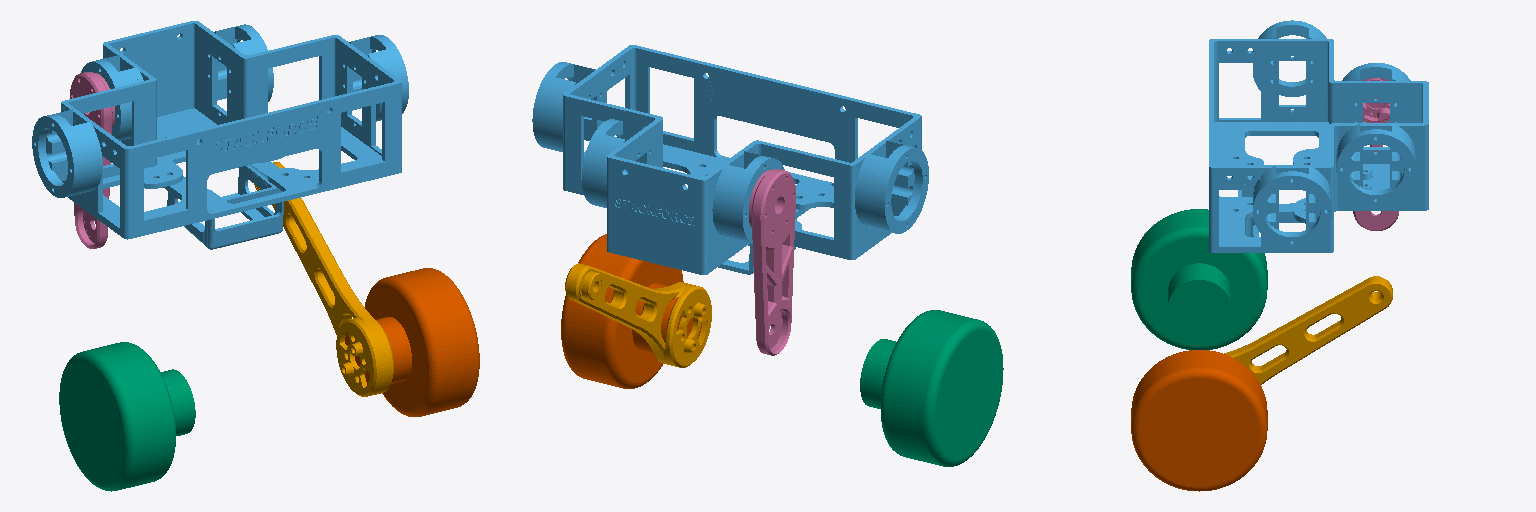
robot.urdf — yaw_bot:
<?xml version='1.0' encoding='utf-8'?>
<robot name="yaw_bot">

    <link name="L_leg2">
        <inertial>
            <origin xyz="0.006905062628628249 -0.009854468753303702 -0.055887393037688006" rpy="0 0 0" />
            <mass value="0.024771540135466605" />
            <inertia ixx="3.6559708017023435e-05" iyy="3.4227597074614803e-05" izz="2.756736408119141e-06"
                     ixy="-1.446695481007213e-07" iyz="-5.72849348071433e-06" ixz="-8.204580116337257e-07" />
        </inertial>
        <visual name="L_leg2_visual">
            <origin xyz="0.004599996208398833 -4.294191229270439e-09 -4.309250902778672e-09"
                    rpy="-1.5707963267948966 1.3962634015954634 -1.5707963267948966" />
            <geometry>
                <mesh filename="meshes/L_leg2.stl" scale="0.001 0.001 0.001" />
            </geometry>
        </visual>
        <collision name="L_leg2_collision">
            <origin xyz="0.004599996208398833 -4.294191229270439e-09 -4.309250902778672e-09"
                    rpy="-1.5707963267948966 1.3962634015954634 -1.5707963267948966" />
            <geometry>
                <mesh filename="meshes/L_leg2.stl" scale="0.001 0.001 0.001" />
            </geometry>
        </collision>
    </link>

    <link name="Body">
        <inertial>
            <origin xyz="-1.5122274954099258e-05 -0.008522917911864053 -0.0033113715021494726" rpy="0 0 0" />
            <mass value="0.55" />
            <inertia ixx="0.000707039674353944" iyy="0.0015058415792489023" izz="0.0018990194155595217"
                     ixy="-4.003016326460196e-08" iyz="-3.688655883629387e-05" ixz="4.7553160463655175e-08" />
        </inertial>
        <visual name="Body_visual">
            <origin xyz="0 0 0" rpy="0 0 0" />
            <geometry>
                <mesh filename="meshes/Body.stl" scale="0.001 0.001 0.001" />
            </geometry>
        </visual>
        <collision name="Body_collision">
            <origin xyz="0 0 0" rpy="0 0 0" />
            <geometry>
                <mesh filename="meshes/Body.stl" scale="0.001 0.001 0.001" />
            </geometry>
        </collision>
    </link>

    <link name="R_wheel">
        <inertial>
            <origin xyz="-0.029143190769008082 1.336656227368671e-09 2.4209189852797408e-09" rpy="0 0 0" />
            <mass value="0.09579883926422769" />
            <inertia ixx="4.4821067523390657e-05" iyy="3.332778072440257e-05" izz="3.332778072440204e-05"
                     ixy="-5.652164680205037e-13" iyz="-3.841999940752855e-20" ixz="-1.464693526319681e-12" />
        </inertial>
        <visual name="R_wheel_visual">
            <origin xyz="-0.04560010777365896 2.2525172260756677e-09 4.794267649543826e-09"
                    rpy="-3.1415925105579046 0.17453292519943325 1.570796297275515" />
            <geometry>
                <mesh filename="meshes/R_wheel.stl" scale="0.001 0.001 0.001" />
            </geometry>
        </visual>
        <collision name="R_wheel_collision">
            <origin xyz="-0.029143190769008082 0 0"
                    rpy="0 1.5707963267948966 0" />
            <geometry>
                <cylinder radius="0.0325" length="0.028" />
            </geometry>
        </collision>
    </link>

    <link name="L_leg1">
        <inertial>
            <origin xyz="-0.01817664032785978 4.2499057784084475e-09 0.0035950394435368825" rpy="0 0 0" />
            <mass value="0.019929620600305648" />
            <inertia ixx="1.2938063663276781e-06" iyy="1.0239082030478714e-05" izz="1.1274459117837446e-05"
                     ixy="-2.1331638291929656e-12" iyz="2.4812564100700546e-14" ixz="2.1438378095246175e-07" />
        </inertial>
        <visual name="L_leg1_visual">
            <origin xyz="3.668816609403436e-09 4.485799178777228e-09 0.007510006387212767"
                    rpy="-3.141592653589793 0 3.141592653589793" />
            <geometry>
                <mesh filename="meshes/L_leg1.stl" scale="0.001 0.001 0.001" />
            </geometry>
        </visual>
        <collision name="L_leg1_collision">
            <origin xyz="3.668816609403436e-09 4.485799178777228e-09 0.007510006387212767"
                    rpy="-3.141592653589793 0 3.141592653589793" />
            <geometry>
                <mesh filename="meshes/L_leg1.stl" scale="0.001 0.001 0.001" />
            </geometry>
        </collision>
    </link>

    <link name="R_leg2">
        <inertial>
            <origin xyz="-0.006905071179043256 -0.00985444686487682 -0.05588739624681786" rpy="0 0 0" />
            <mass value="0.024771540135466612" />
            <inertia ixx="3.6559708016949207e-05" iyy="3.4228410339707002e-05" izz="2.7559231429525398e-06"
                     ixy="1.4466825992845216e-07" iyz="-5.726259053072789e-06" ixz="8.204582387729414e-07" />
        </inertial>
        <visual name="R_leg2_visual">
            <origin xyz="-0.004600004758813849 -1.6959085025192167e-09 -4.1170097642151406e-09"
                    rpy="1.5707963267948966 1.3962634015954634 -1.5707963267948966" />
            <geometry>
                <mesh filename="meshes/R_leg2.stl" scale="0.001 0.001 0.001" />
            </geometry>
        </visual>
        <collision name="R_leg2_collision">
            <origin xyz="-0.004600004758813849 -1.6959085025192167e-09 -4.1170097642151406e-09"
                    rpy="1.5707963267948966 1.3962634015954634 -1.5707963267948966" />
            <geometry>
                <mesh filename="meshes/R_leg2.stl" scale="0.001 0.001 0.001" />
            </geometry>
        </collision>
    </link>

    <link name="L_wheel">
        <inertial>
            <origin xyz="0.029143182218593147 4.913896326508293e-09 -6.210250802496375e-09" rpy="0 0 0" />
            <mass value="0.09579883926422769" />
            <inertia ixx="4.482106752339109e-05" iyy="3.332778072440217e-05" izz="3.3327780724402155e-05"
                     ixy="3.0175019509673178e-14" iyz="-1.0885666498799575e-19" ixz="-1.5696774553673985e-12" />
        </inertial>
        <visual name="L_wheel_visual">
            <origin xyz="0.04560009922324402 4.962791087526064e-09 -8.753711924214258e-09"
                    rpy="1.5328386244992607e-07 0.17453292519943325 1.5707963563142782" />
            <geometry>
                <mesh filename="meshes/L_wheel.stl" scale="0.001 0.001 0.001" />
            </geometry>
        </visual>
        <collision name="L_wheel_collision">
            <origin xyz="0.029143182218593147 0 0"
                    rpy="0 1.5707963267948966 0" />
            <geometry>
                <cylinder radius="0.0325" length="0.028" />
            </geometry>
        </collision>
    </link>

    <link name="R_leg1">
        <inertial>
            <origin xyz="-0.01817664032809215 1.6292111704174773e-09 -0.003595037993951902" rpy="0 0 0" />
            <mass value="0.019929620600305592" />
            <inertia ixx="1.293806369083282e-06" iyy="1.0239082027772397e-05" izz="1.1274459117886696e-05"
                     ixy="2.1254915233987796e-12" iyz="2.4812291959038077e-14" ixz="-2.1438378094416943e-07" />
        </inertial>
        <visual name="R_leg1_visual">
            <origin xyz="3.66881660718299e-09 1.3933100539986755e-09 -0.007510004937627786"
                    rpy="0 0 3.141592653589793" />
            <geometry>
                <mesh filename="meshes/R_leg1.stl" scale="0.001 0.001 0.001" />
            </geometry>
        </visual>
        <collision name="R_leg1_collision">
            <origin xyz="3.66881660718299e-09 1.3933100539986755e-09 -0.007510004937627786"
                    rpy="0 0 3.141592653589793" />
            <geometry>
                <mesh filename="meshes/R_leg1.stl" scale="0.001 0.001 0.001" />
            </geometry>
        </collision>
    </link>

    <joint name="Body_r_1" type="revolute">
        <origin xyz="0.03999 0.01997885 0.0063153" rpy="-3.141592653589793 -1.5707963267948966 0" />
        <parent link="Body" />
        <child link="L_leg1" />
        <axis xyz="0 0 1" />
        <limit lower="-0.174533" upper="1.396263" effort="100" velocity="20" />
    </joint>

    <joint name="L_leg1_r_4" type="revolute">
        <origin xyz="-0.06 0 0.00361001" rpy="-3.141592653589793 -1.5707963267948966 0" />
        <parent link="L_leg1" />
        <child link="L_leg2" />
        <axis xyz="-1 0 0" />
        <limit lower="0.174533" upper="1.48353" effort="100" velocity="20" />
    </joint>

    <joint name="L_leg2_r_7" type="continuous">
        <origin xyz="0.0037 -0.01736482 -0.09848079" rpy="3.141592653589793 0 0" />
        <parent link="L_leg2" />
        <child link="L_wheel" />
        <axis xyz="-1 0 0" />
        <limit effort="100" velocity="50" />
    </joint>

    <joint name="Body_r_8" type="revolute">
        <origin xyz="-0.04001 0.01997885 0.0063153" rpy="-3.141592653589793 -1.5707963267948966 0" />
        <parent link="Body" />
        <child link="R_leg1" />
        <axis xyz="0 0 1" />
        <limit lower="-0.174533" upper="1.396263" effort="100" velocity="20" />
    </joint>

    <joint name="R_leg1_r_9" type="revolute">
        <origin xyz="-0.06 0 -0.00361" rpy="-3.141592653589793 -1.5707963267948966 0" />
        <parent link="R_leg1" />
        <child link="R_leg2" />
        <axis xyz="1 0 0" />
        <limit lower="-1.48353" upper="-0.174533" effort="100" velocity="20" />
    </joint>

    <joint name="R_leg2_r_10" type="continuous">
        <origin xyz="-0.0037 -0.01736482 -0.09848079" rpy="3.141592653589793 0 0" />
        <parent link="R_leg2" />
        <child link="R_wheel" />
        <axis xyz="1 0 0" />
        <limit effort="100" velocity="50" />
    </joint>

</robot>

--- Facts derived from the render (not from the file) ---
Views: 3 orthographic renders of the robot side by side, from view 1: azimuth 30°, elevation 25°; view 2: azimuth 150°, elevation 25°; view 3: azimuth 270°, elevation 25°.
Robot: yaw_bot — 7 links, 6 joints (4 revolute, 2 continuous); root link Body; default pose: all joints at 0 but 2 set to mid-range because 0 is outside their limits (L_leg1_r_4 = 0.829, R_leg1_r_9 = -0.829).
Visible links, largest first — view 1: Body, R_wheel, L_wheel, L_leg2, R_leg1; view 2: Body, R_wheel, L_wheel, L_leg2, R_leg1; view 3: Body, L_wheel, R_wheel, L_leg2, R_leg1.
Link boxes in pixels (left/top/right/bottom): Body: left=32, top=21, right=408, bottom=249; R_wheel: left=59, top=342, right=195, bottom=491; L_wheel: left=345, top=268, right=479, bottom=416; L_leg2: left=254, top=162, right=393, bottom=396; R_leg1: left=70, top=72, right=114, bottom=248; Body: left=532, top=45, right=928, bottom=274; R_wheel: left=860, top=310, right=1003, bottom=466; L_wheel: left=561, top=234, right=702, bottom=388; L_leg2: left=565, top=263, right=711, bottom=367; R_leg1: left=749, top=169, right=795, bottom=355; Body: left=1209, top=20, right=1428, bottom=252; L_wheel: left=1131, top=350, right=1267, bottom=491; R_wheel: left=1131, top=209, right=1267, bottom=349; L_leg2: left=1224, top=276, right=1392, bottom=384; R_leg1: left=1353, top=78, right=1398, bottom=230.
Bounding box of the posed robot: 0.1858 × 0.1419 × 0.1652 m (x, y, z).
5 mesh visuals loaded from 7 distinct referenced files (5 binary STL); not drawn: 2 (reference not matched to a file when rendering).
